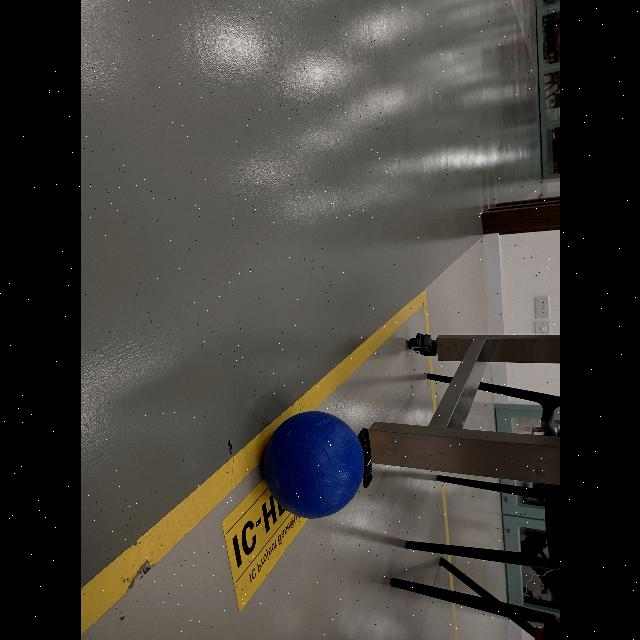B: (262, 408, 366, 518)
